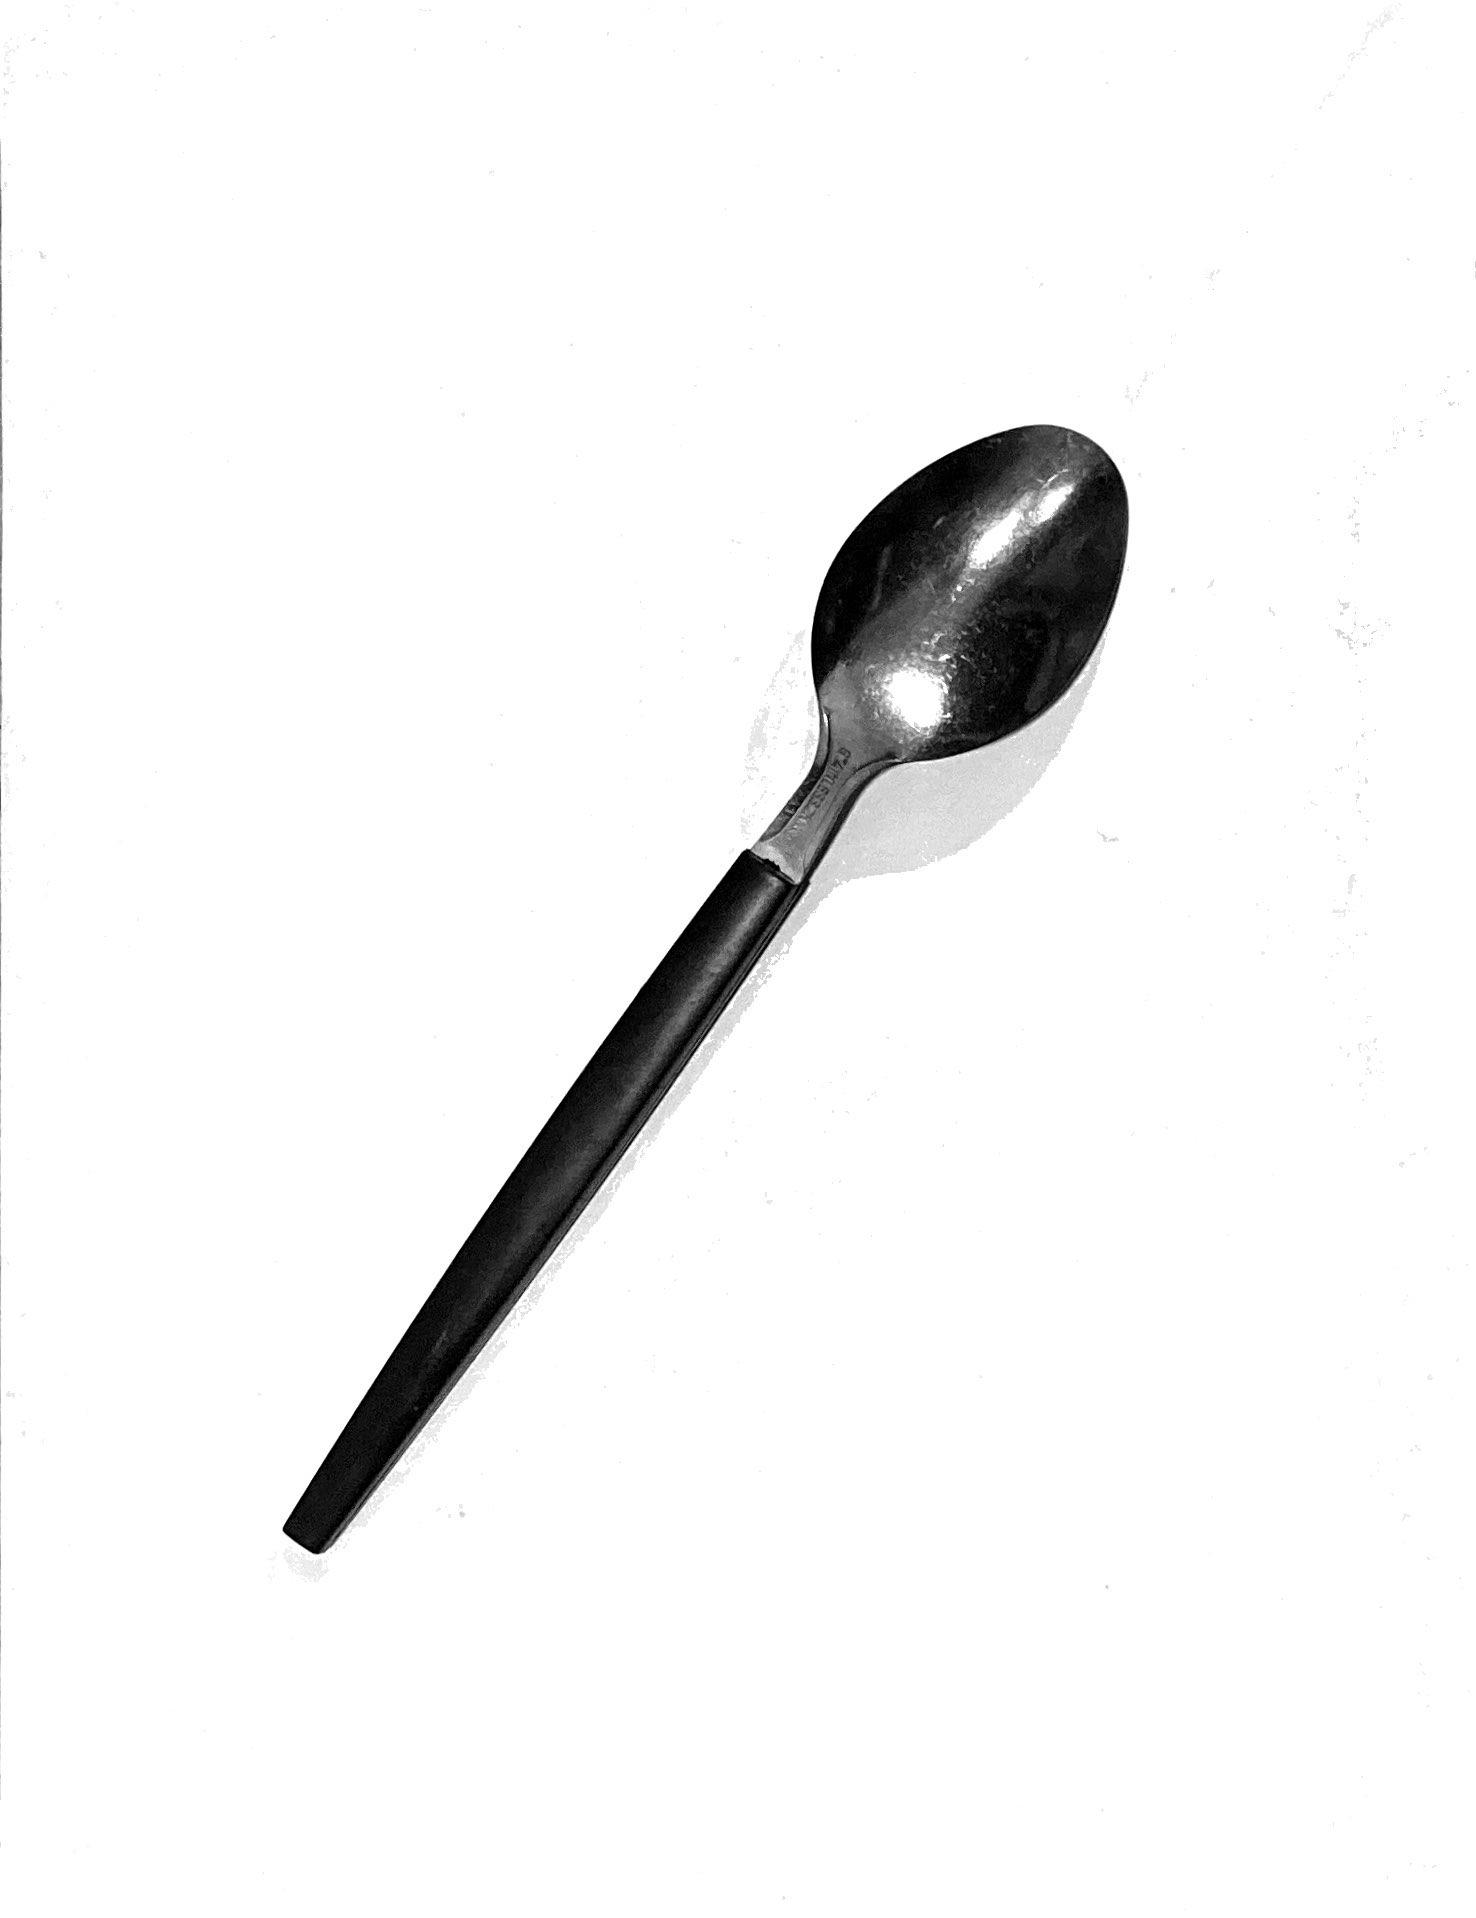Spoon: (251, 395, 1239, 1640)
